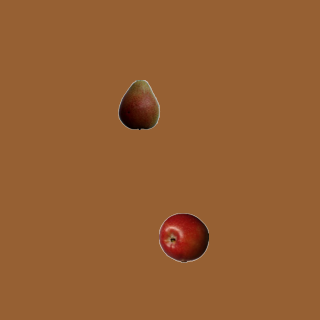Apple Braeburn: (158, 212, 208, 262)
Pear Forelle: (113, 79, 163, 129)
